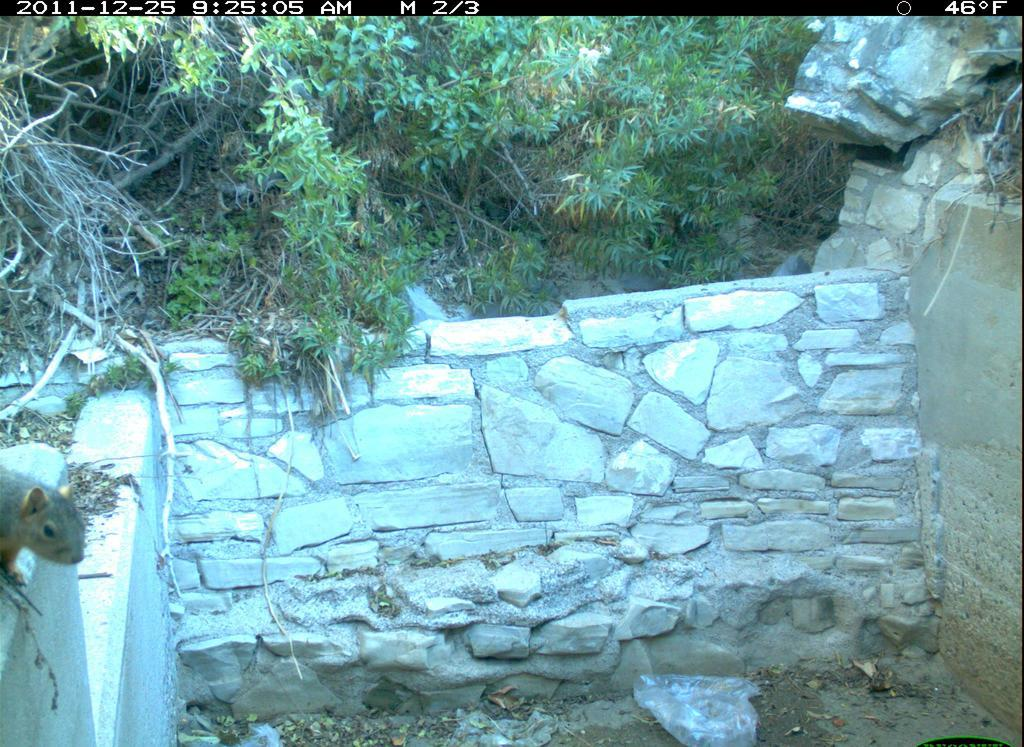squirrel: (2, 456, 103, 603)
